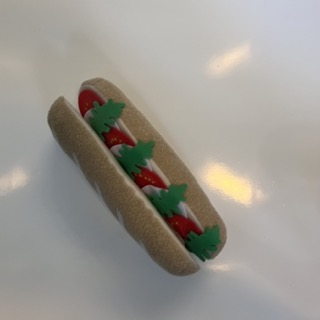sandwich: (49, 78, 228, 276)
